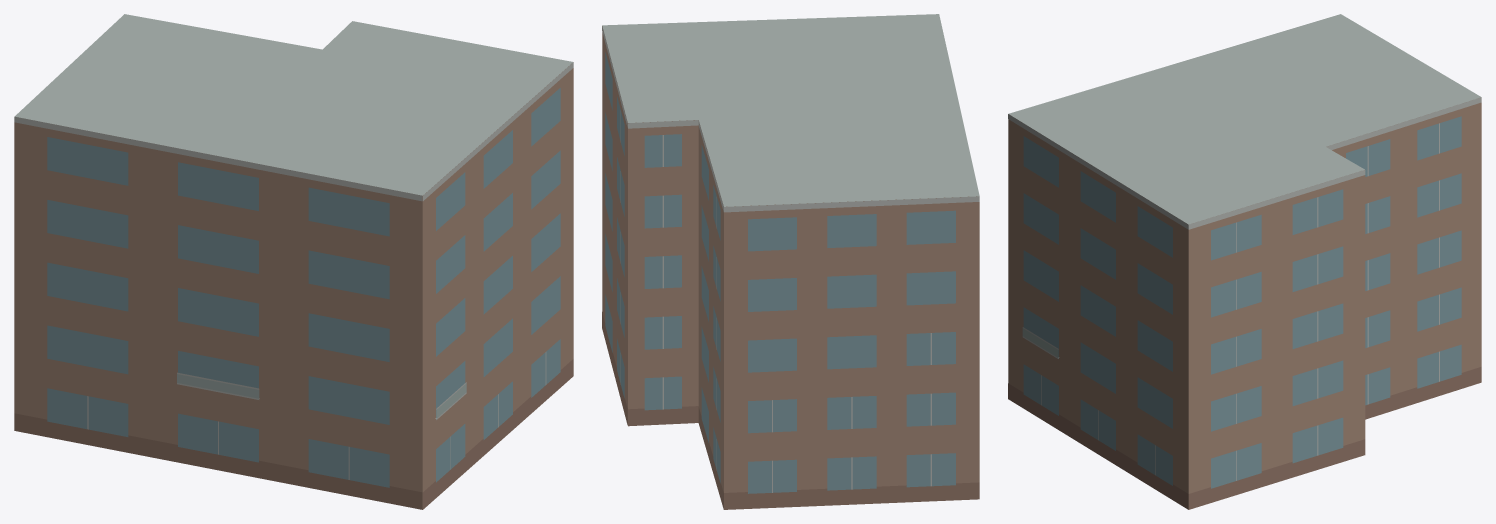
Rendered from survey-upis-32802899.glb.
3 renders of one model, left to right at view 1: azimuth 30°, elevation 25°; view 2: azimuth 150°, elevation 25°; view 3: azimuth 270°, elevation 25°, orthographic. The views are drawn at different scales.
Parts seen in each view (by area): view 1: survey-upis-32802899.tmp; view 2: survey-upis-32802899.tmp; view 3: survey-upis-32802899.tmp.
Boxes of the visible parts, x1,y1,x2,y2 form: survey-upis-32802899.tmp: [14, 14, 573, 509]; survey-upis-32802899.tmp: [602, 14, 979, 509]; survey-upis-32802899.tmp: [1008, 14, 1481, 509].
Bounding box in the file's own units: 21.06 × 13.3 × 20.01.
